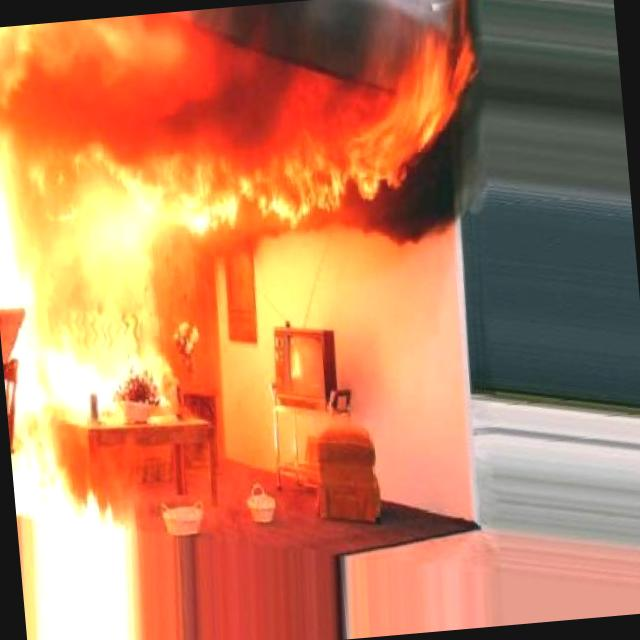fire: (0, 0, 519, 545)
